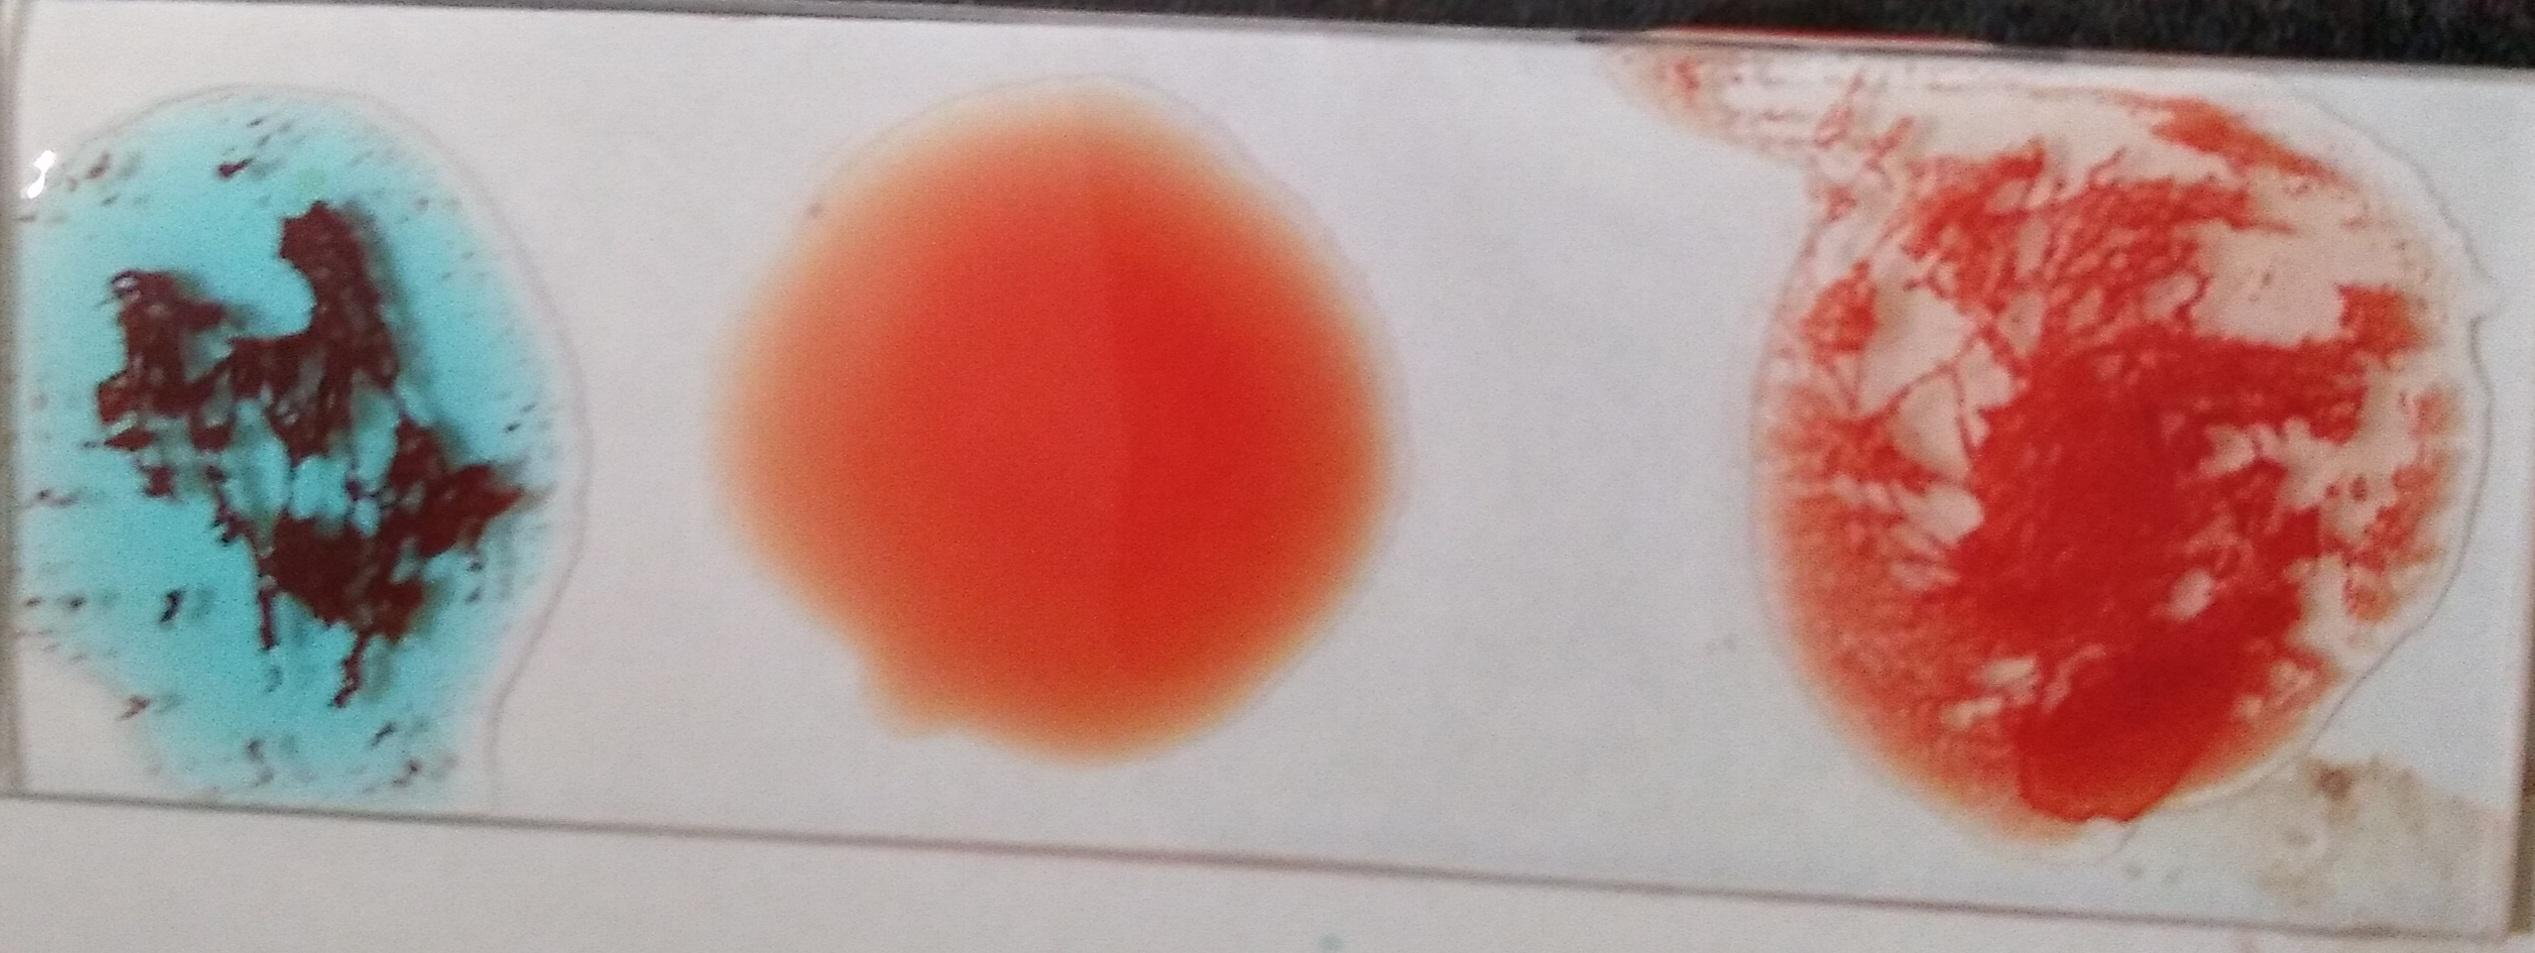A: (3, 110, 606, 791)
D: (1778, 91, 2491, 838)
